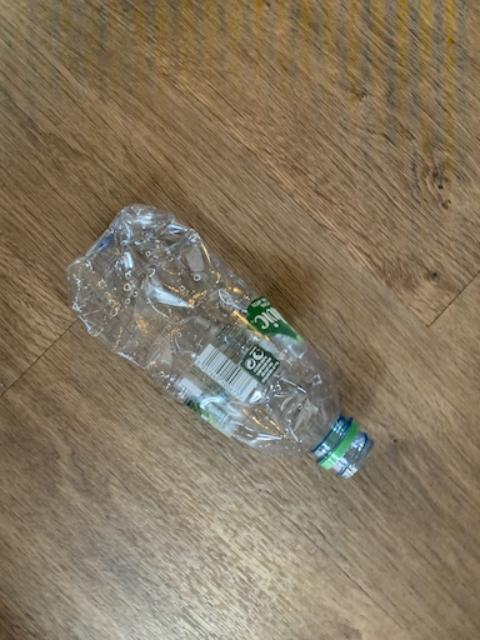plastic: (65, 204, 370, 475)
